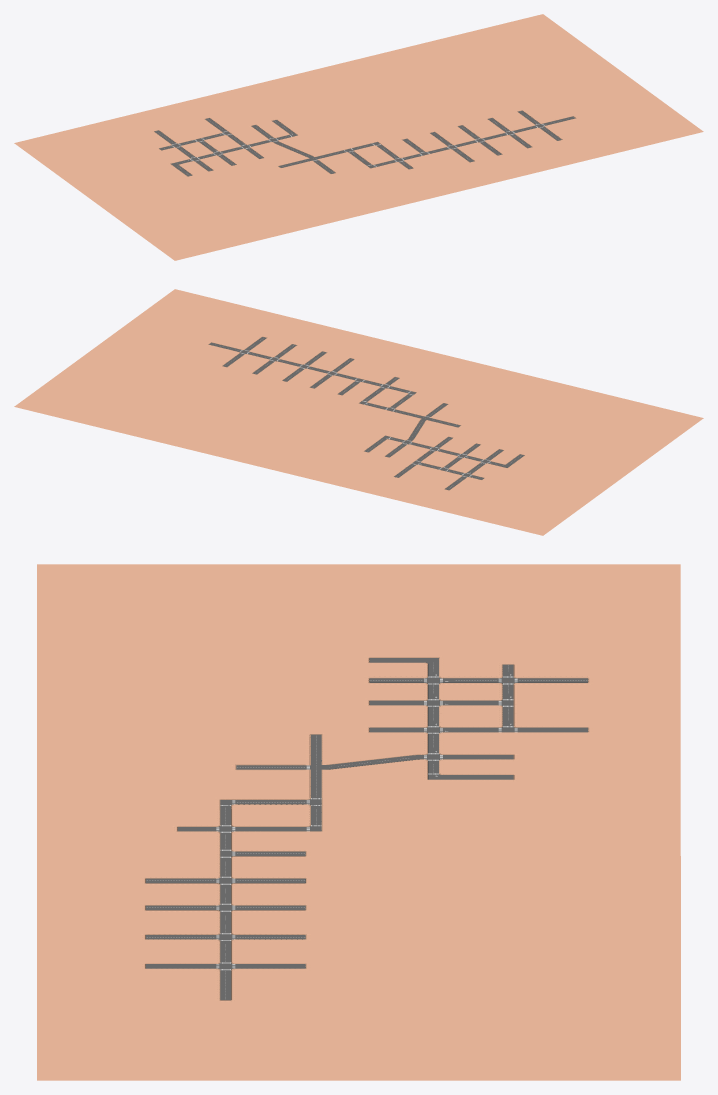
File: Level 08.fbx
3 renders of one model, top to bottom at view 1: azimuth 30°, elevation 25°; view 2: azimuth 150°, elevation 25°; view 3: azimuth 270°, elevation 25°, orthographic. The views are drawn at different scales.
Parts seen in each view (by area): view 1: Footpath, SM_Env_Sidewalk_Corner_14; view 2: Footpath, SM_Env_Sidewalk_Corner_14; view 3: Footpath, SM_Env_Sidewalk_Corner_14.
Boxes of the visible parts, x1=… form: Footpath: x1=14, y1=14, x2=703, y2=260; SM_Env_Sidewalk_Corner_14: x1=151, y1=109, x2=578, y2=177; Footpath: x1=14, y1=289, x2=703, y2=535; SM_Env_Sidewalk_Corner_14: x1=205, y1=335, x2=527, y2=491; Footpath: x1=37, y1=564, x2=680, y2=1080; SM_Env_Sidewalk_Corner_14: x1=140, y1=655, x2=593, y2=1002.
Size of the model in its own units: 114643 by 120 by 60402.
